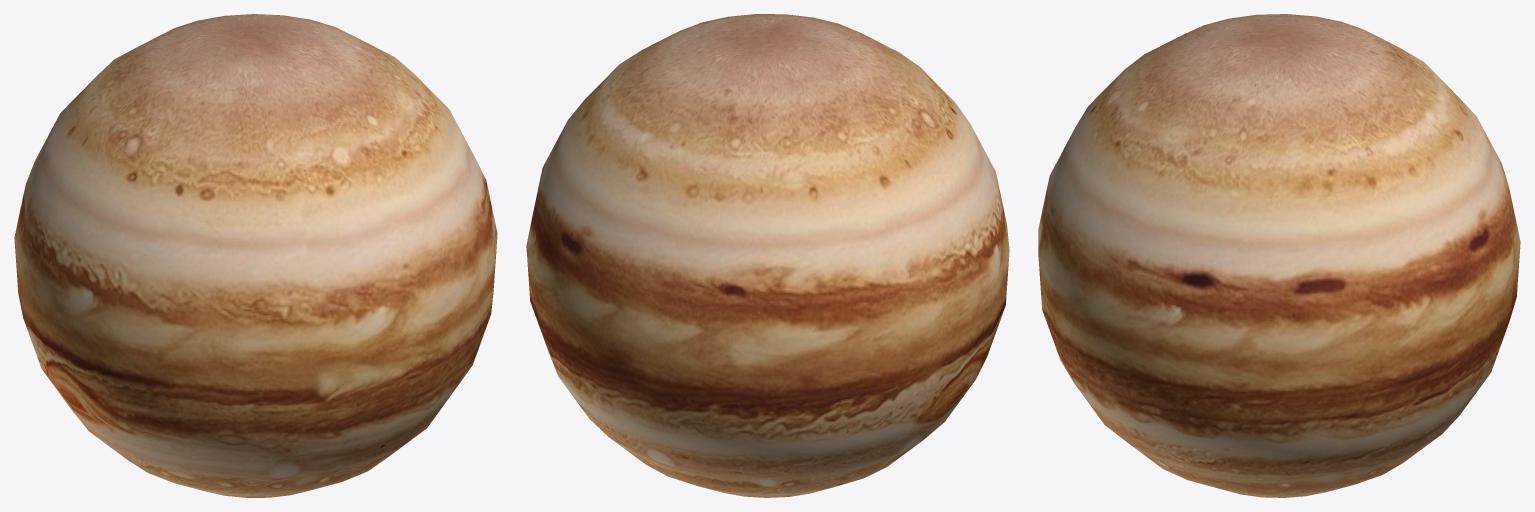
Rendered from Jupiter.obj.
3 views of the same model, side by side, from view 1: azimuth 30°, elevation 25°; view 2: azimuth 150°, elevation 25°; view 3: azimuth 270°, elevation 25° (orthographic).
Visible parts, largest first — view 1: Planet; view 2: Planet; view 3: Planet.
Part boxes in pixels (x1=…): Planet: x1=14, y1=14, x2=497, y2=497; Planet: x1=526, y1=14, x2=1009, y2=497; Planet: x1=1038, y1=14, x2=1520, y2=497.
Size of the model in its own units: 99.61 by 100 by 99.41.
